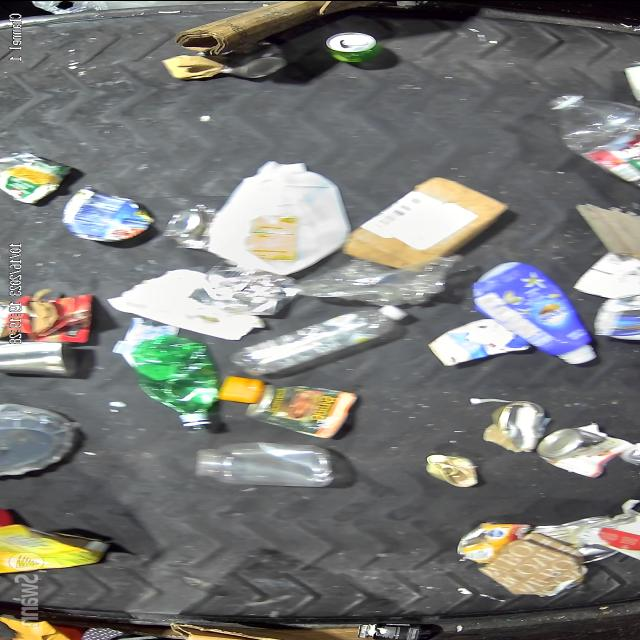can: (244, 382, 364, 438), (62, 186, 156, 244), (533, 426, 629, 478), (0, 152, 75, 204), (483, 400, 554, 453), (194, 39, 288, 78), (163, 204, 223, 250), (322, 31, 382, 63)
milk_jug: (204, 159, 357, 276)
non_white_jug: (468, 259, 598, 365)
plastic_bottle: (222, 304, 414, 376), (546, 92, 640, 186)
